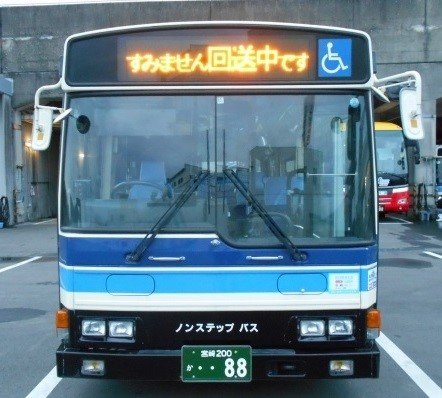destination: (116, 34, 316, 80)
